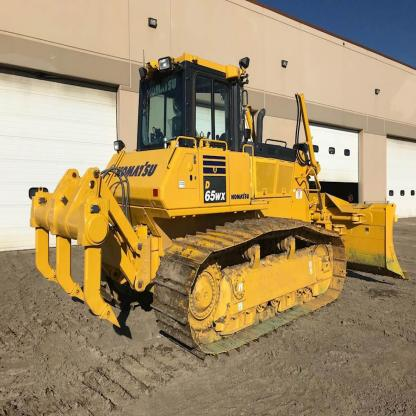bull_dozer/loader/grader: (25, 38, 409, 364)
